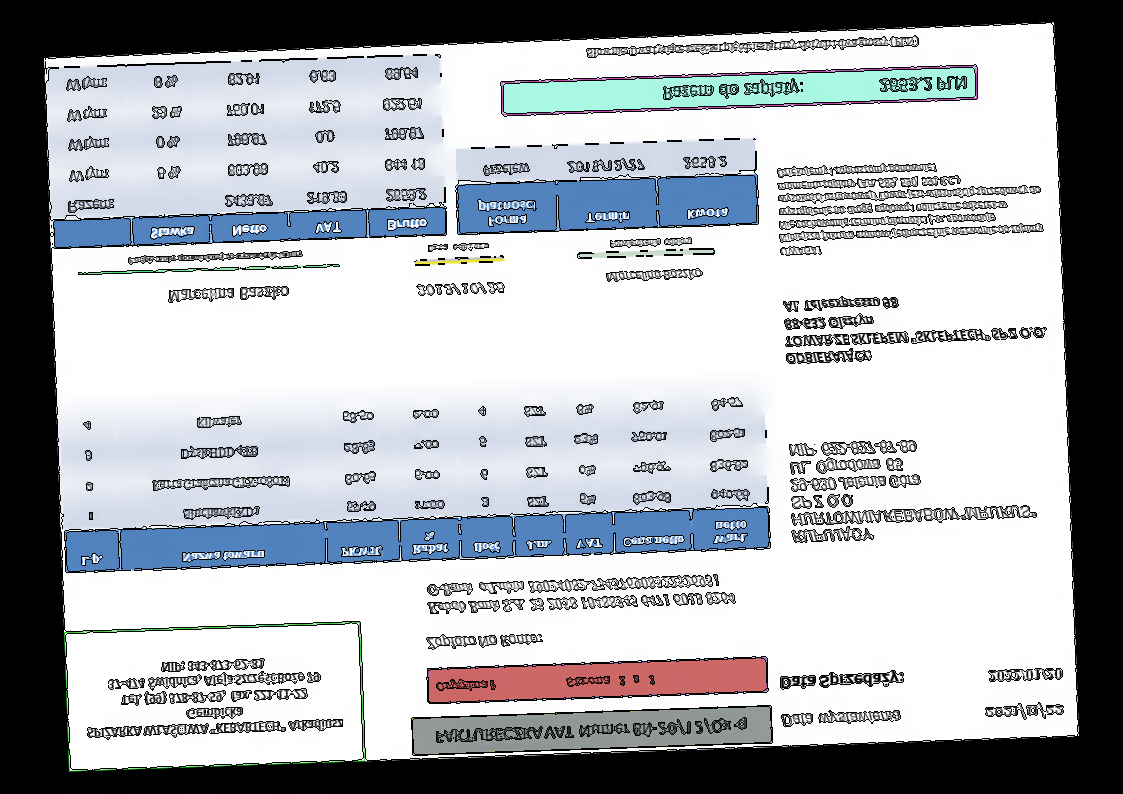Table: (59, 384, 773, 576), (46, 53, 448, 249), (453, 137, 759, 236)
TextBox: (785, 433, 1040, 547), (774, 156, 1046, 259), (81, 653, 344, 744), (780, 288, 1050, 369), (425, 571, 737, 619), (431, 714, 749, 746), (661, 72, 967, 104), (584, 33, 921, 62), (433, 669, 659, 696), (778, 667, 908, 693), (126, 248, 304, 266), (778, 706, 906, 731), (424, 630, 546, 654), (166, 284, 289, 305), (981, 700, 1067, 723), (604, 266, 704, 285), (414, 280, 508, 299), (985, 665, 1066, 685), (608, 236, 694, 250), (426, 241, 490, 256)
